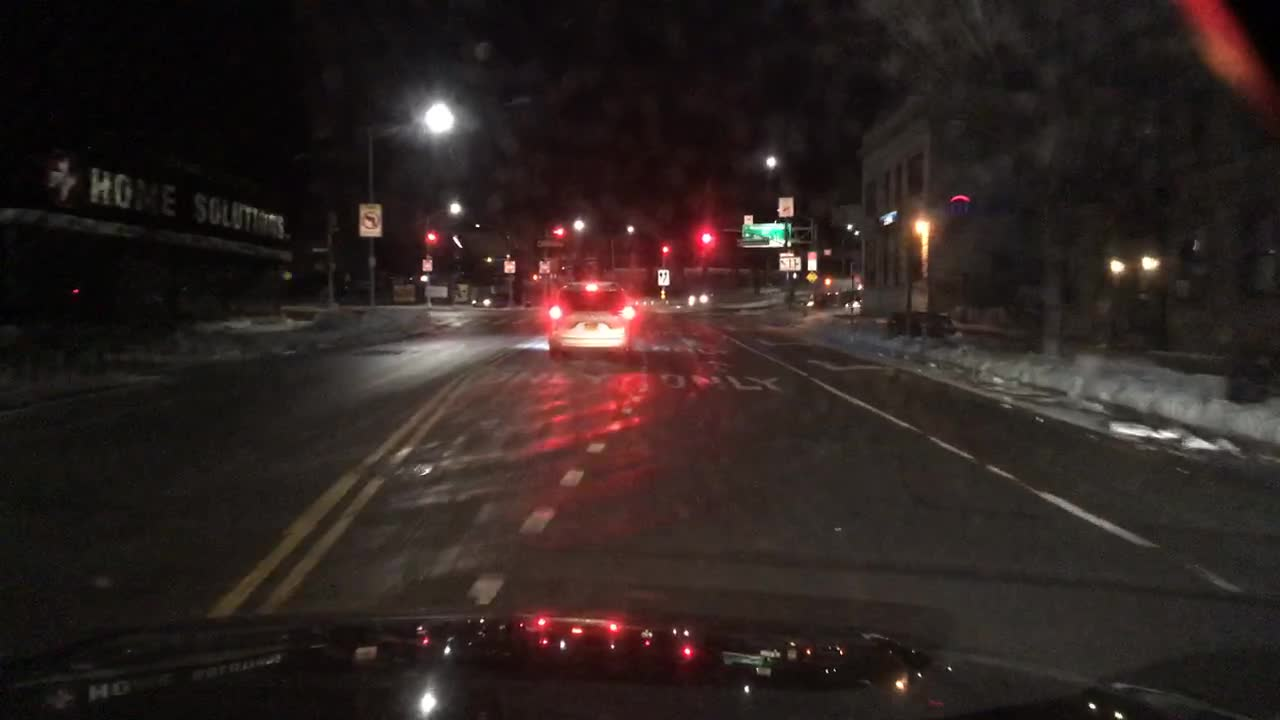car: (545, 279, 641, 360), (473, 288, 518, 307), (685, 288, 713, 307)
traffic light: (697, 227, 710, 253), (424, 227, 434, 246), (823, 274, 832, 291), (553, 225, 562, 239), (417, 273, 431, 281), (661, 244, 666, 257)
traffic sign: (741, 223, 791, 247), (357, 203, 380, 236), (776, 250, 799, 274), (776, 195, 794, 213), (805, 244, 816, 271), (655, 268, 667, 285), (804, 271, 818, 285), (418, 257, 431, 272), (537, 260, 550, 272), (503, 260, 515, 272)
